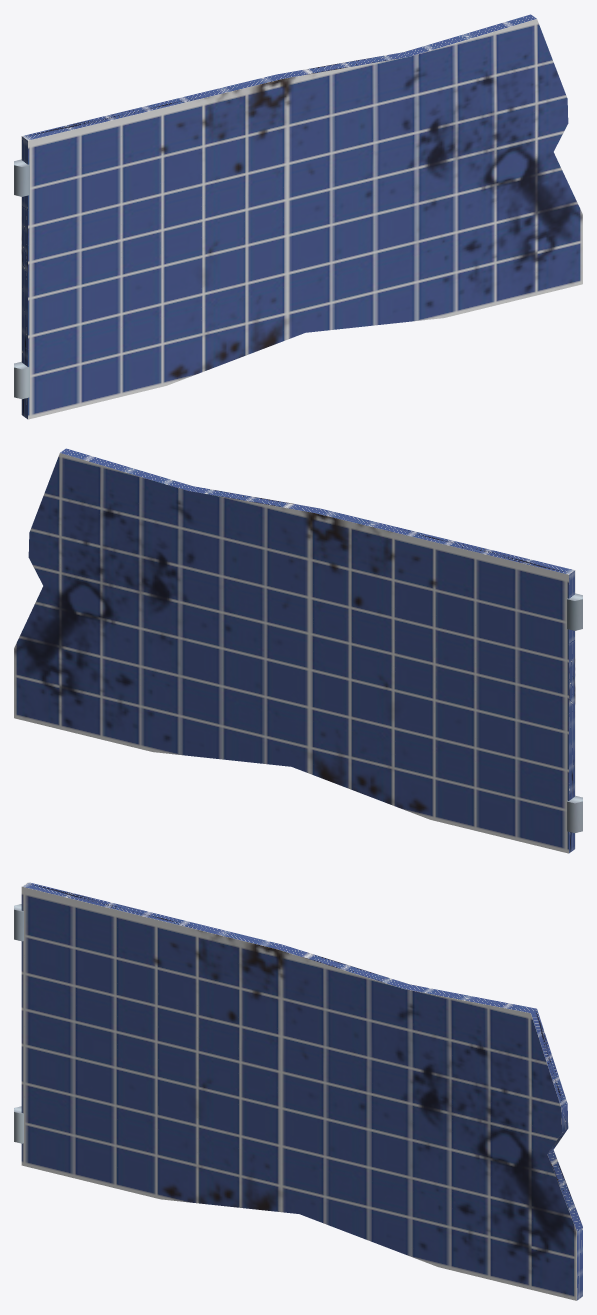
Rendered from LAJI01.gltf.
3 renders of one model, top to bottom at view 1: azimuth 30°, elevation 25°; view 2: azimuth 150°, elevation 25°; view 3: azimuth 330°, elevation 25°, orthographic.
Parts seen in each view (by area): view 1: ZX11_10, ZX11_06; view 2: ZX11_10, ZX11_06; view 3: ZX11_10, ZX11_06.
Boxes of the visible parts, <box> form: ZX11_10: <box>21,14,582,419</box>; ZX11_06: <box>14,159,29,399</box>; ZX11_10: <box>14,448,575,853</box>; ZX11_06: <box>567,593,582,833</box>; ZX11_10: <box>21,882,582,1300</box>; ZX11_06: <box>14,904,23,1143</box>.
Size of the model in its own units: 4.14 by 1.95 by 0.1021.
2 materials, 2 textured.
